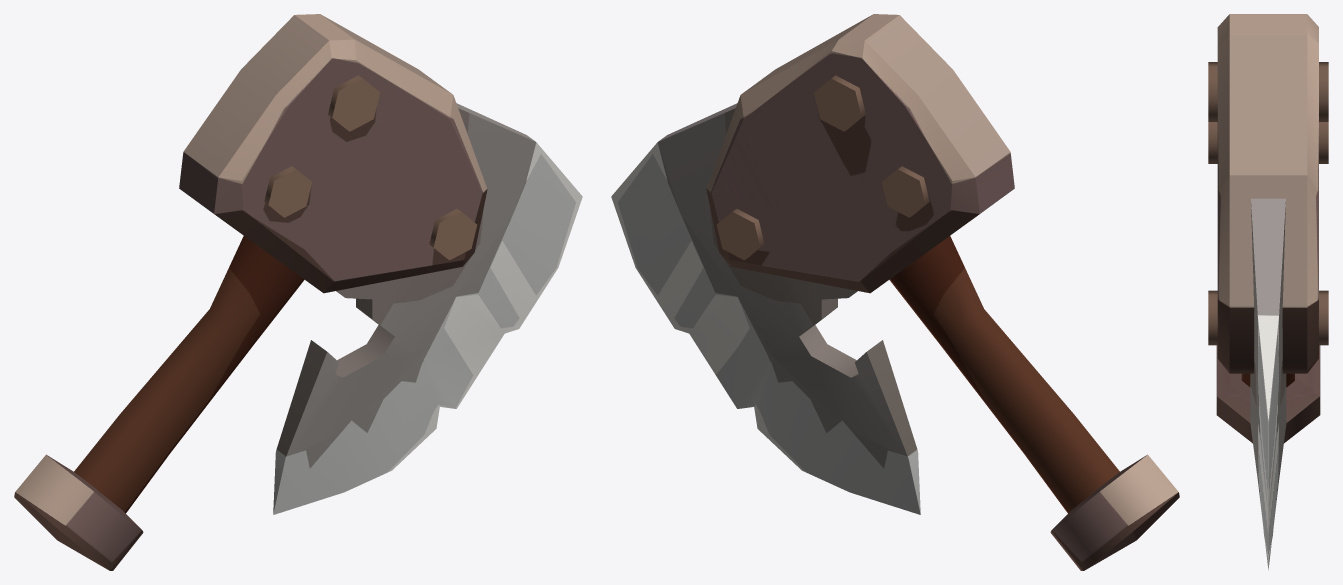
File: Bronze_03.FBX
3 views of the same model, side by side, from view 1: azimuth 30°, elevation 25°; view 2: azimuth 150°, elevation 25°; view 3: azimuth 270°, elevation 25° (orthographic). The views are drawn at different scales.
Parts seen in each view (by area): view 1: bronze_03; view 2: bronze_03; view 3: bronze_03.
Boxes of the visible parts, x1,y1,x2,y2 form: bronze_03: (14,14,582,570); bronze_03: (611,14,1179,570); bronze_03: (1208,14,1328,570).
Size of the model in its own units: 72.35 by 60.24 by 11.97.
